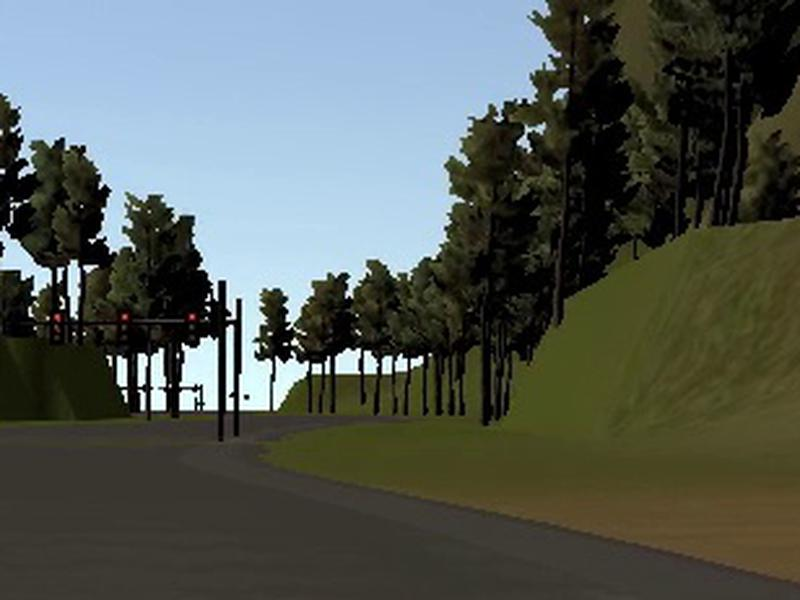Red: (183, 309, 201, 345), (116, 311, 131, 345), (50, 310, 64, 345)
